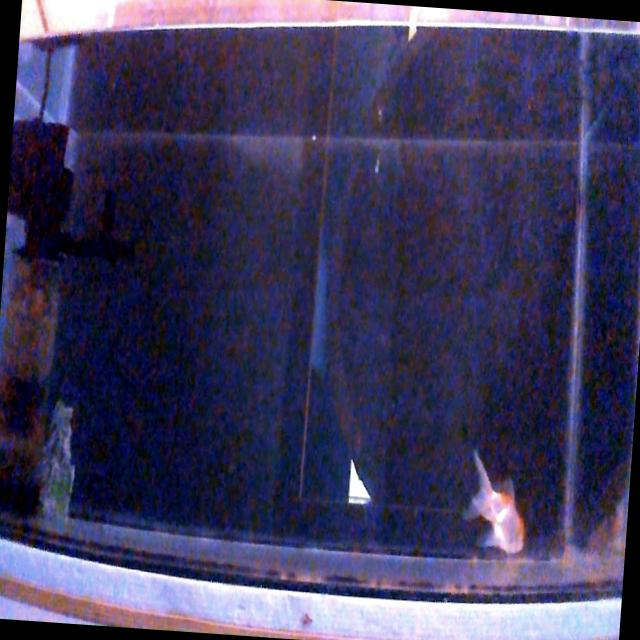fish: (462, 446, 532, 554)
